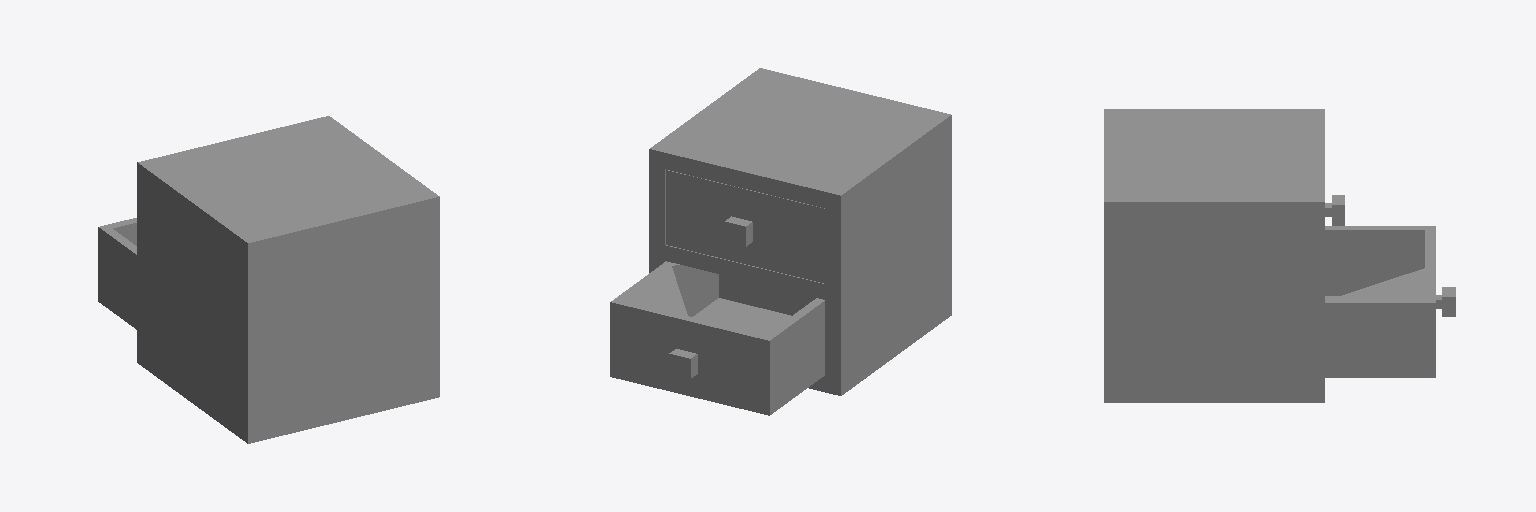
The model's file is kitchen_wooden_cabinet_3.obj.
3 renders of one model, left to right at view 1: azimuth 30°, elevation 25°; view 2: azimuth 150°, elevation 25°; view 3: azimuth 270°, elevation 25°, orthographic.
Visible parts, largest first — view 1: Cube.000, Cube.002; view 2: Cube.000, Cube.002, Cube.001; view 3: Cube.000, Cube.002.
Part boxes in pixels (bbox=[...]): Cube.000: bbox=[137, 116, 439, 443]; Cube.002: bbox=[98, 218, 136, 329]; Cube.000: bbox=[649, 68, 951, 395]; Cube.002: bbox=[610, 261, 824, 415]; Cube.001: bbox=[666, 170, 824, 283]; Cube.000: bbox=[1104, 109, 1324, 402]; Cube.002: bbox=[1325, 226, 1455, 377].
Size of the model in its own units: 2 by 2 by 3.18.